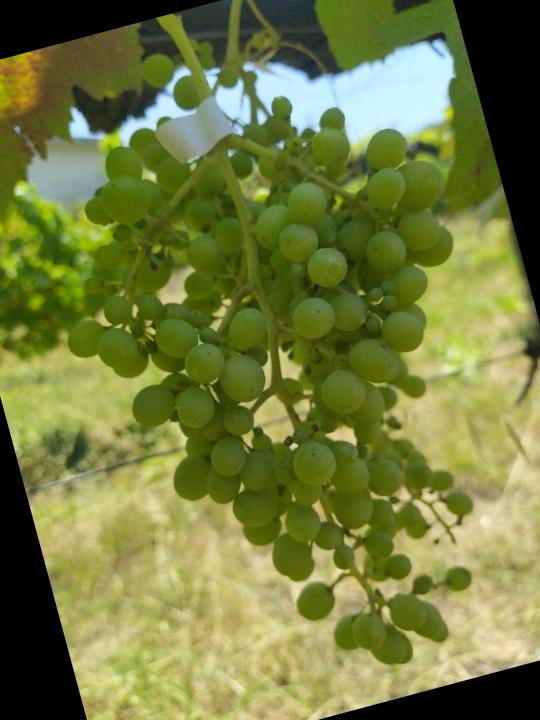grape: (0, 19, 540, 720)
